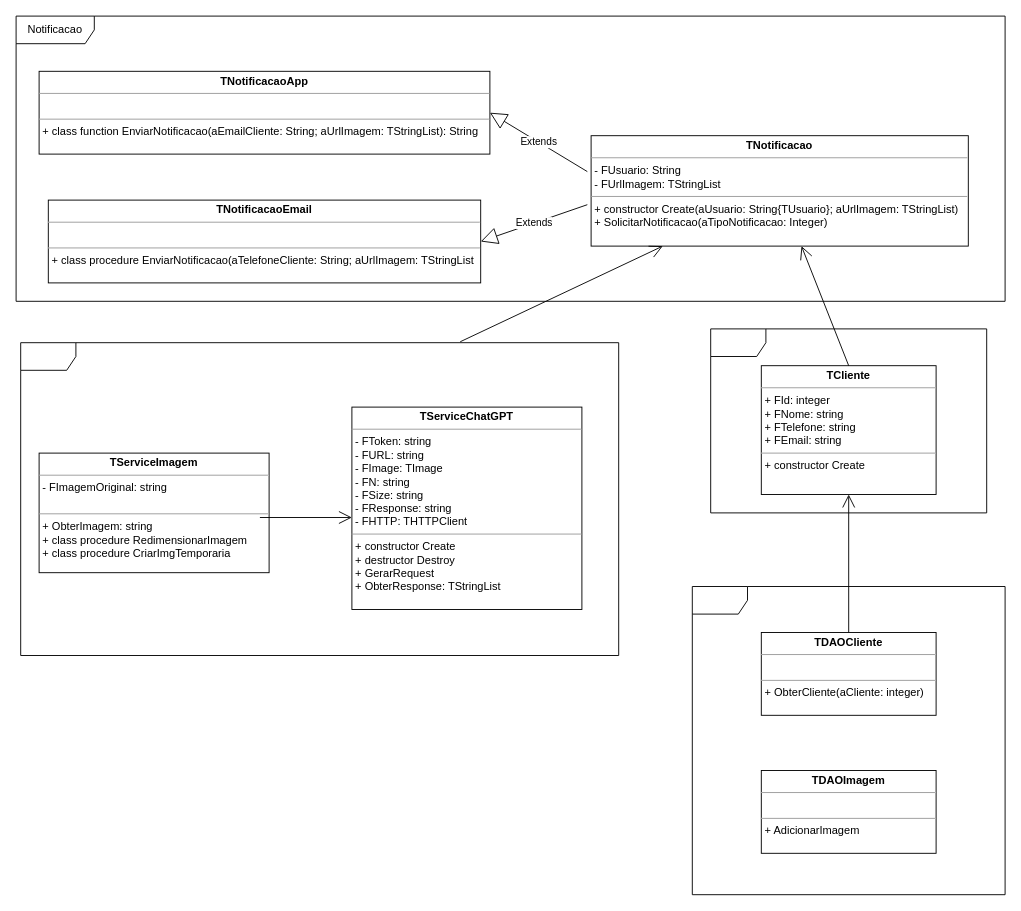
Image size: 1021x911. Some labels were removed from this diagram. Here are the shapes that lost their labels. From the top down, the centre of each, then its label:
the point at 848,420: Cliente
the point at 319,499: Services
the point at 848,740: DAO
